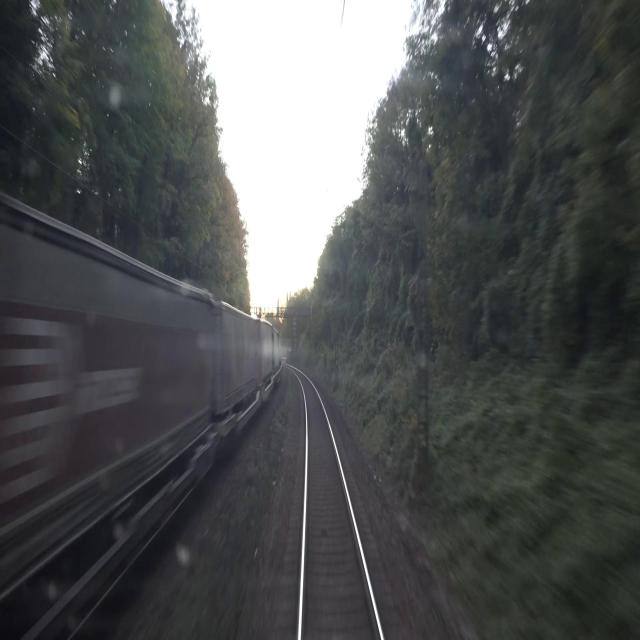rail-track: (299, 375, 379, 639)
